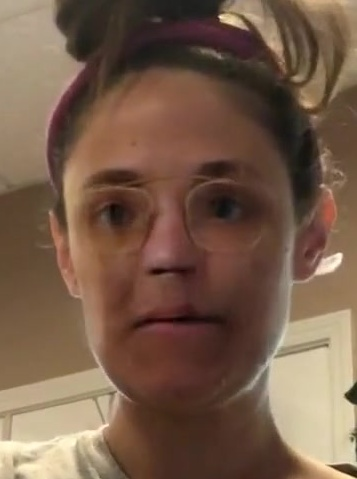n_f: (140, 186, 206, 281)
